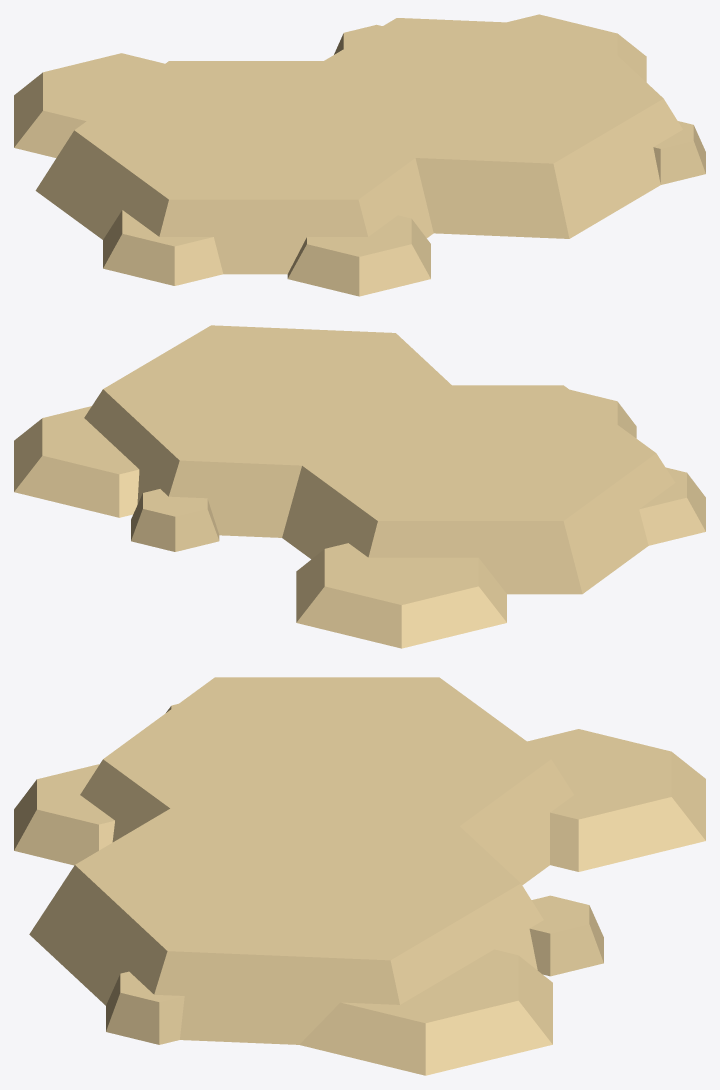
File: rockFlat.dae
The picture shows the model from 3 angles, top to bottom: view 1: azimuth 30°, elevation 25°; view 2: azimuth 150°, elevation 25°; view 3: azimuth 270°, elevation 25°; orthographic projection. The views are drawn at different scales.
Parts seen in each view (by area): view 1: rockFlat; view 2: rockFlat; view 3: rockFlat.
Part boxes in pixels (x1,y1,x2,y2): rockFlat: (14,14,705,296); rockFlat: (14,325,705,648); rockFlat: (14,677,705,1075).
Size of the model in its own units: 1.79 by 0.165 by 1.45.
